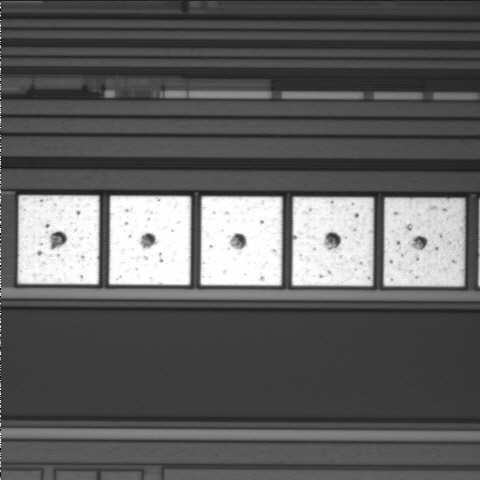pad: (109, 196, 191, 285), (292, 197, 374, 286), (201, 196, 282, 286), (18, 195, 99, 284), (384, 198, 465, 286)
